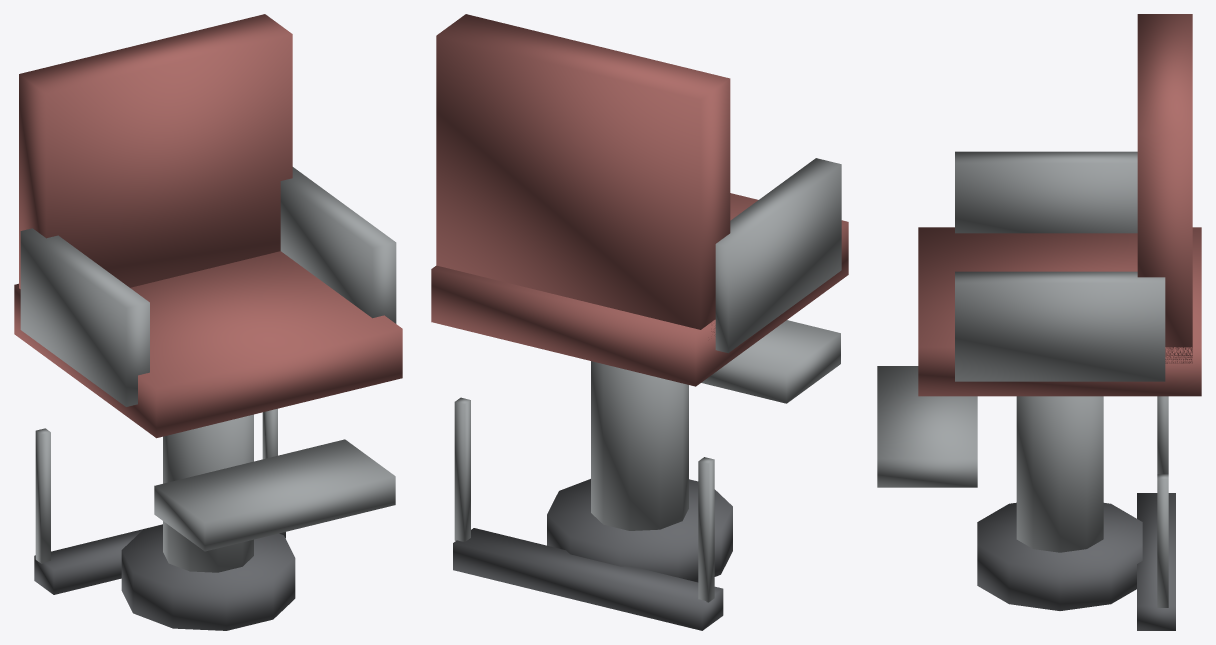
The model's file is barber_chair__reinforced.glb.
The picture shows the model from 3 angles, left to right: view 1: azimuth 30°, elevation 25°; view 2: azimuth 150°, elevation 25°; view 3: azimuth 270°, elevation 25°; orthographic projection. The views are drawn at different scales.
Visible parts, largest first — view 1: world; view 2: world; view 3: world.
Boxes of the visible parts, bbox=[...] form: world: bbox=[14, 14, 402, 630]; world: bbox=[431, 14, 848, 630]; world: bbox=[877, 14, 1201, 630].
Bounding box in the file's own units: 0.7004 × 1.24 × 0.7313.
